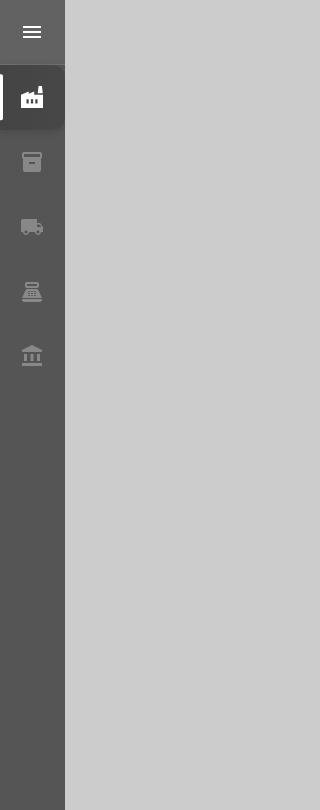
Test: NavigationBar › Icon Rendering › should toggle between MenuIcon and MenuOpenIcon
The width and height of the screenshot is (320, 810).
Expected: the icon with test id "MenuIcon" is shown, top-left (20, 20), bottom-right (44, 44)
Step 1. Click the button → (32, 32), box top-left (0, 0), bottom-right (65, 65)
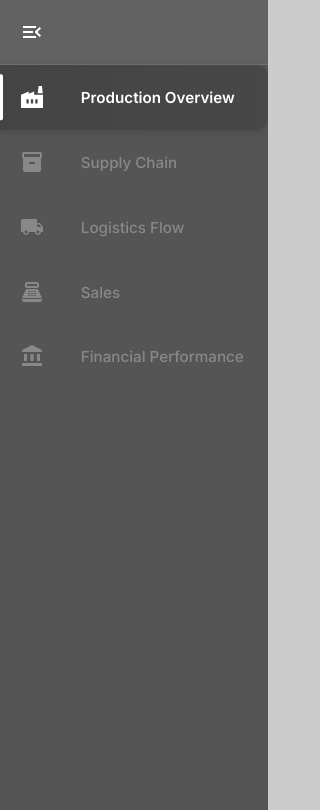
Expected: the icon with test id "MenuOpenIcon" is shown, top-left (20, 20), bottom-right (44, 44)
Expected: the icon with test id "MenuIcon" is gone
